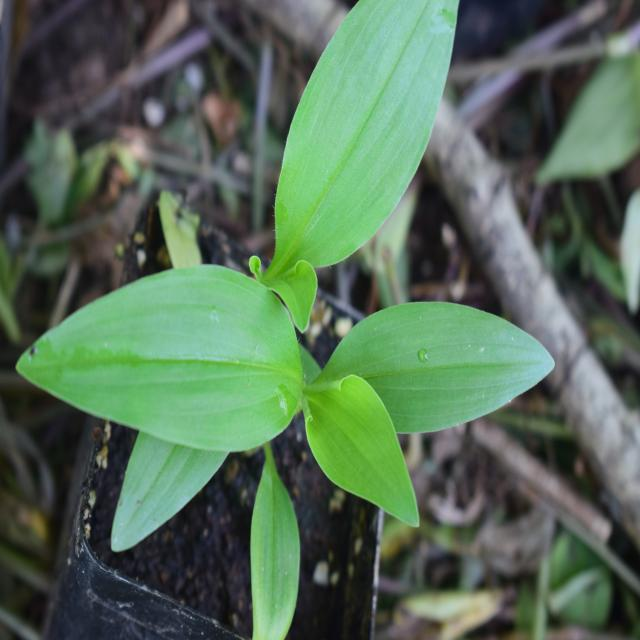Common Dayflower: (29, 211, 538, 548)
